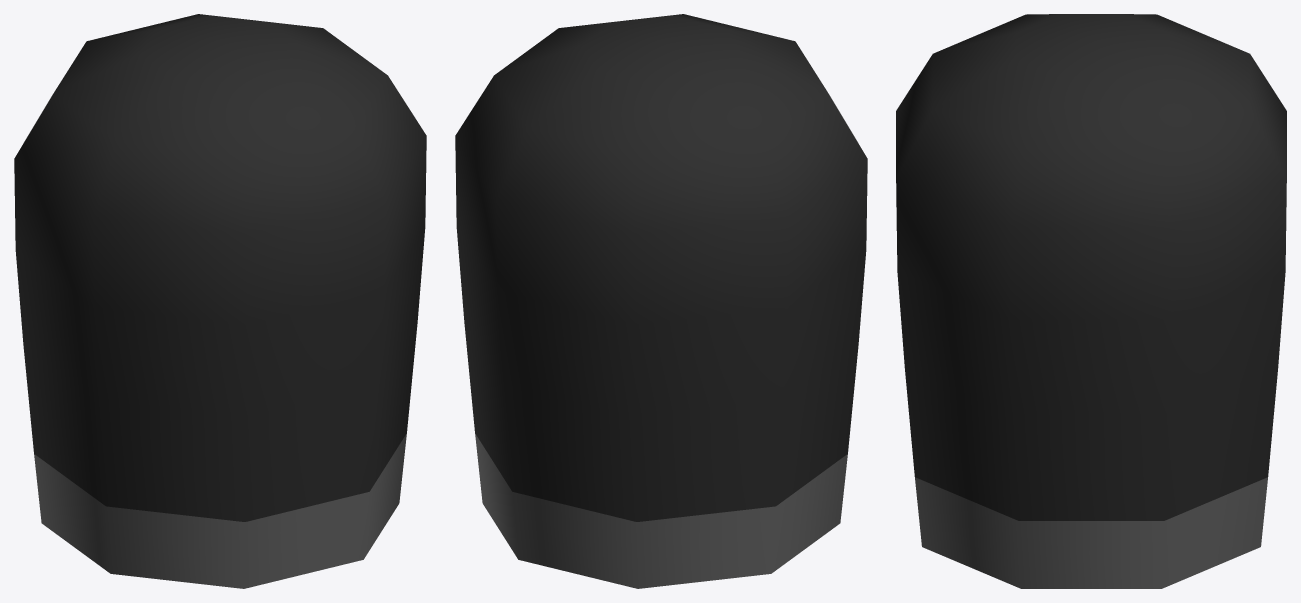
Rendered from SM_shield.FBX.
3 renders of one model, left to right at view 1: azimuth 30°, elevation 25°; view 2: azimuth 150°, elevation 25°; view 3: azimuth 270°, elevation 25°, orthographic.
Parts seen in each view (by area): view 1: shield; view 2: shield; view 3: shield.
Boxes of the visible parts, left/top/right/bottom form: shield: left=14, top=14, right=426, bottom=588; shield: left=455, top=14, right=867, bottom=588; shield: left=896, top=14, right=1286, bottom=588.
Bounding box in the file's own units: 25.07 × 33.92 × 25.07.
